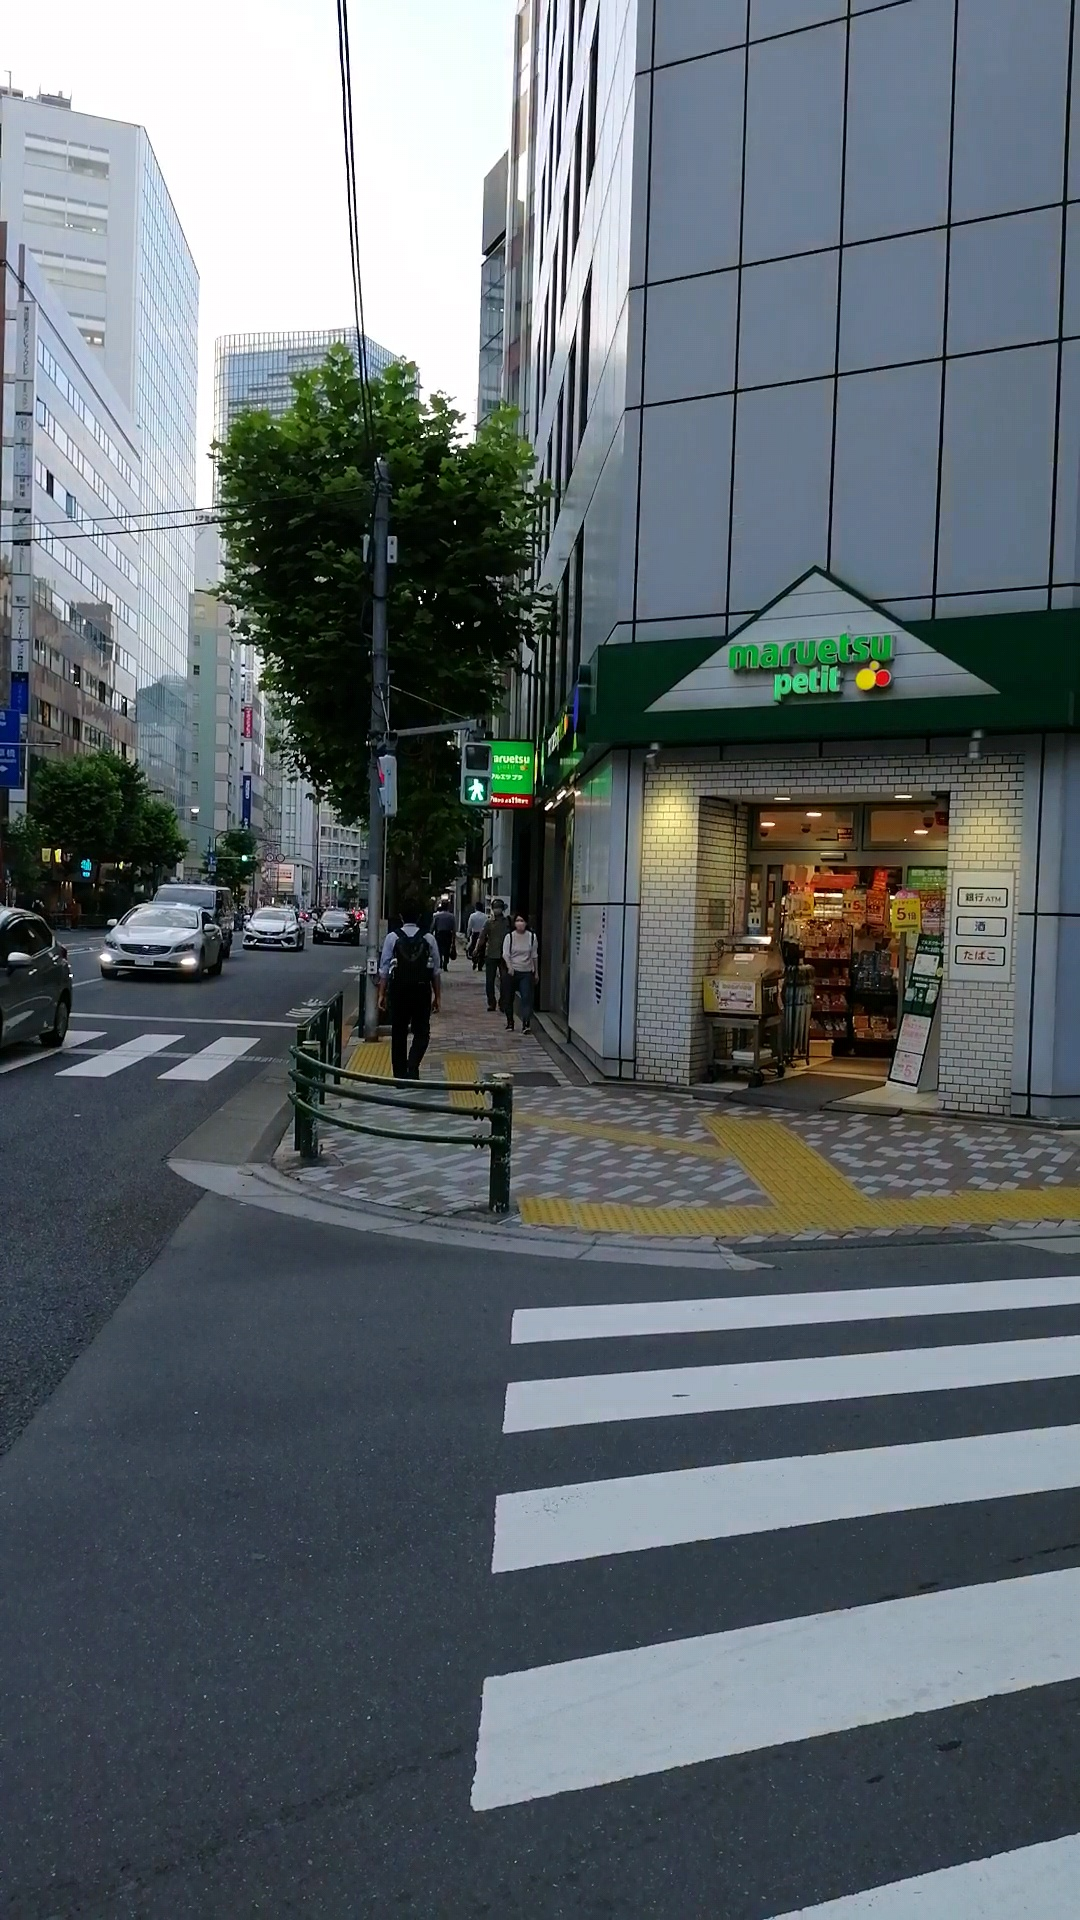green: (462, 741, 492, 806)
